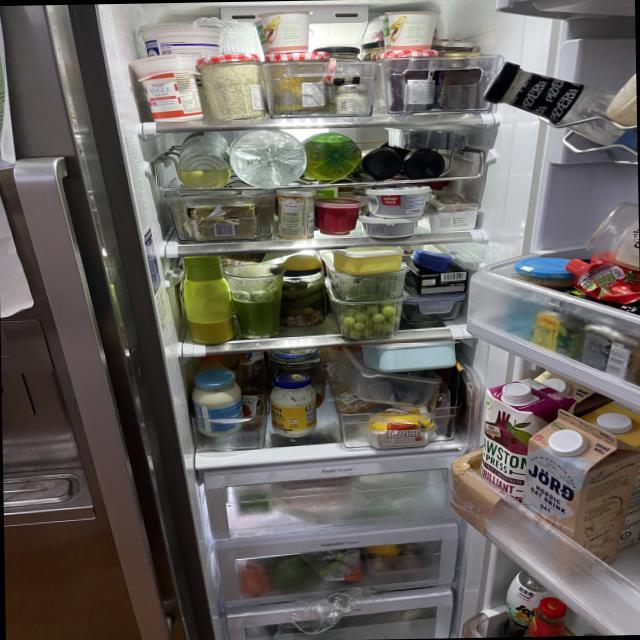Cebolla: (238, 565, 272, 594)
Limón: (280, 253, 323, 270), (366, 543, 403, 559)
Mantequilla: (187, 205, 260, 240)
Yogur: (136, 20, 228, 60)
